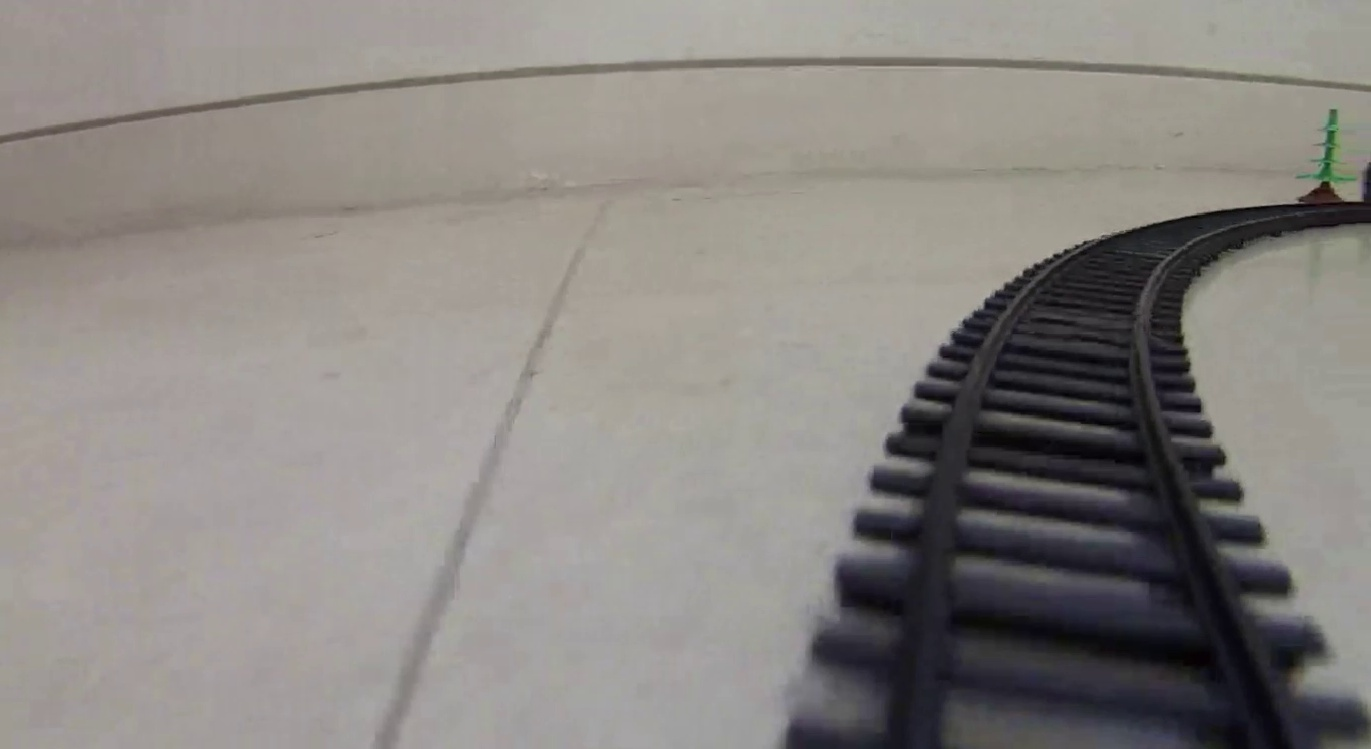tree: (1295, 106, 1355, 204)
